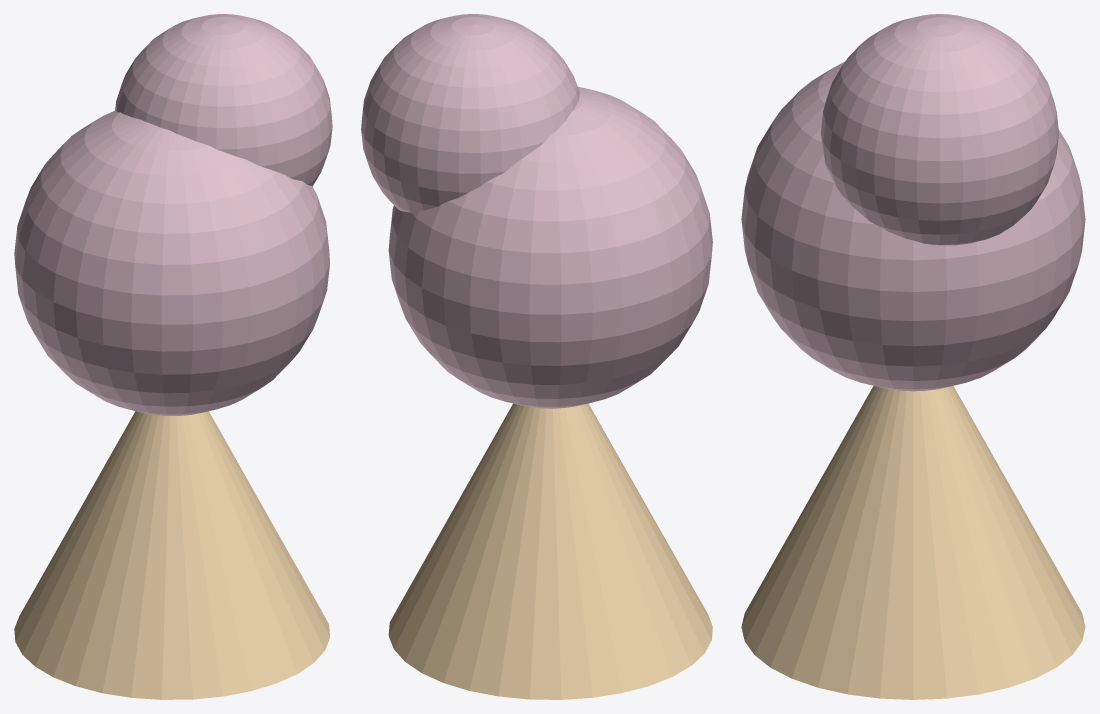
The model's file is IceCreamTruck.glb.
3 renders of one model, left to right at view 1: azimuth 30°, elevation 25°; view 2: azimuth 150°, elevation 25°; view 3: azimuth 270°, elevation 25°, orthographic. The views are drawn at different scales.
Parts seen in each view (by area): view 1: Sphere, Cone, Sphere.001; view 2: Sphere, Cone, Sphere.001; view 3: Cone, Sphere, Sphere.001.
Boxes of the visible parts, bbox=[...] form: Sphere: bbox=[14, 111, 329, 415]; Cone: bbox=[14, 411, 329, 699]; Sphere.001: bbox=[115, 14, 332, 186]; Sphere: bbox=[388, 87, 712, 408]; Cone: bbox=[388, 403, 712, 699]; Sphere.001: bbox=[361, 14, 579, 212]; Cone: bbox=[741, 386, 1085, 699]; Sphere: bbox=[741, 62, 1085, 391]; Sphere.001: bbox=[821, 14, 1058, 245].
Size of the model in its own units: 0.28 by 0.53 by 0.26.
